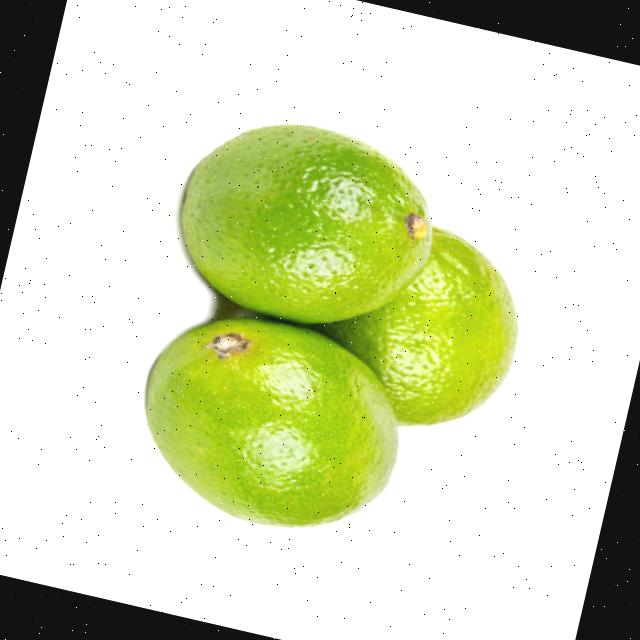Unripe: (120, 298, 422, 552), (158, 100, 454, 350)
